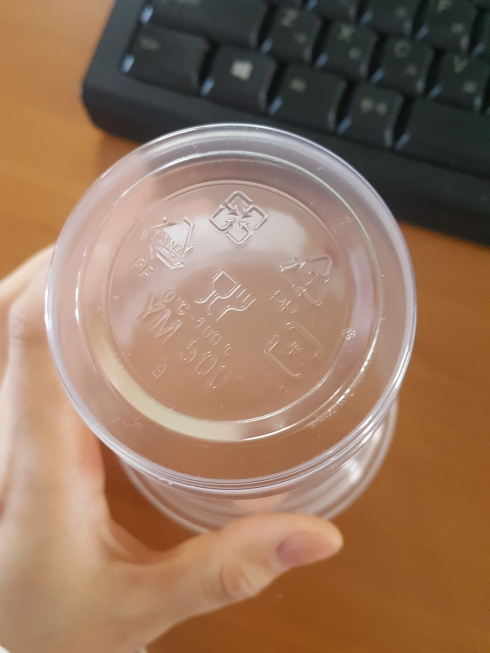recycle: (271, 239, 336, 318)
